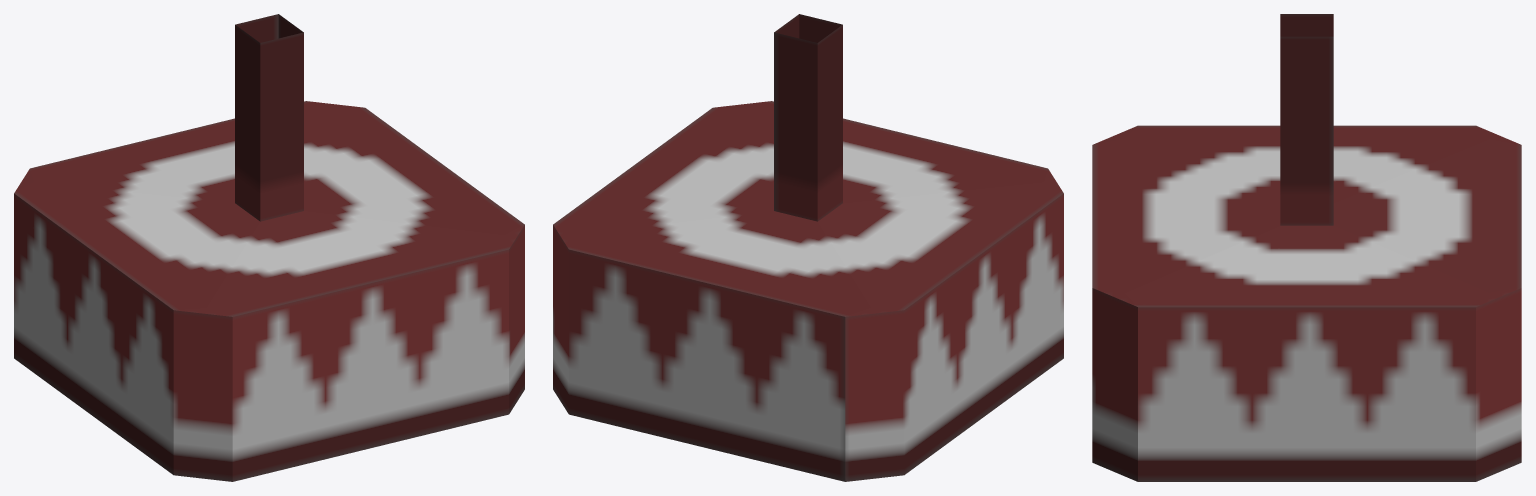
The model's file is obj_music_box.fbx.
The picture shows the model from 3 angles, left to right: view 1: azimuth 30°, elevation 25°; view 2: azimuth 150°, elevation 25°; view 3: azimuth 270°, elevation 25°; orthographic projection. The views are drawn at different scales.
Parts seen in each view (by area): view 1: obj_music_box_botton; view 2: obj_music_box_botton; view 3: obj_music_box_botton.
Boxes of the visible parts, bbox=[...] form: obj_music_box_botton: bbox=[14, 14, 524, 481]; obj_music_box_botton: bbox=[553, 14, 1063, 481]; obj_music_box_botton: bbox=[1092, 14, 1521, 481].
Bounding box in the file's own units: 33.18 × 31.19 × 33.18.
